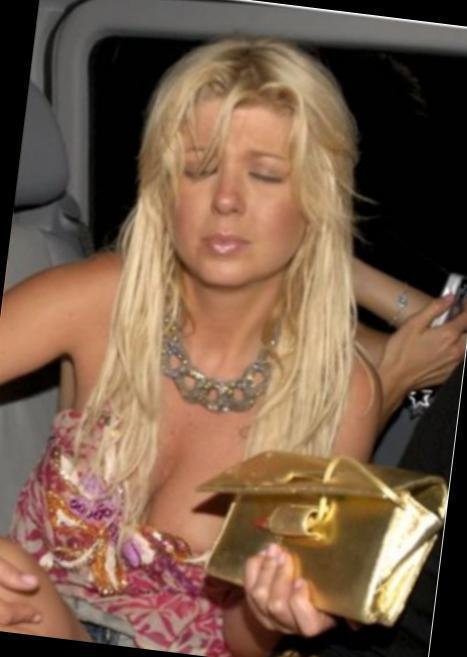Drunk: (168, 103, 302, 293)
